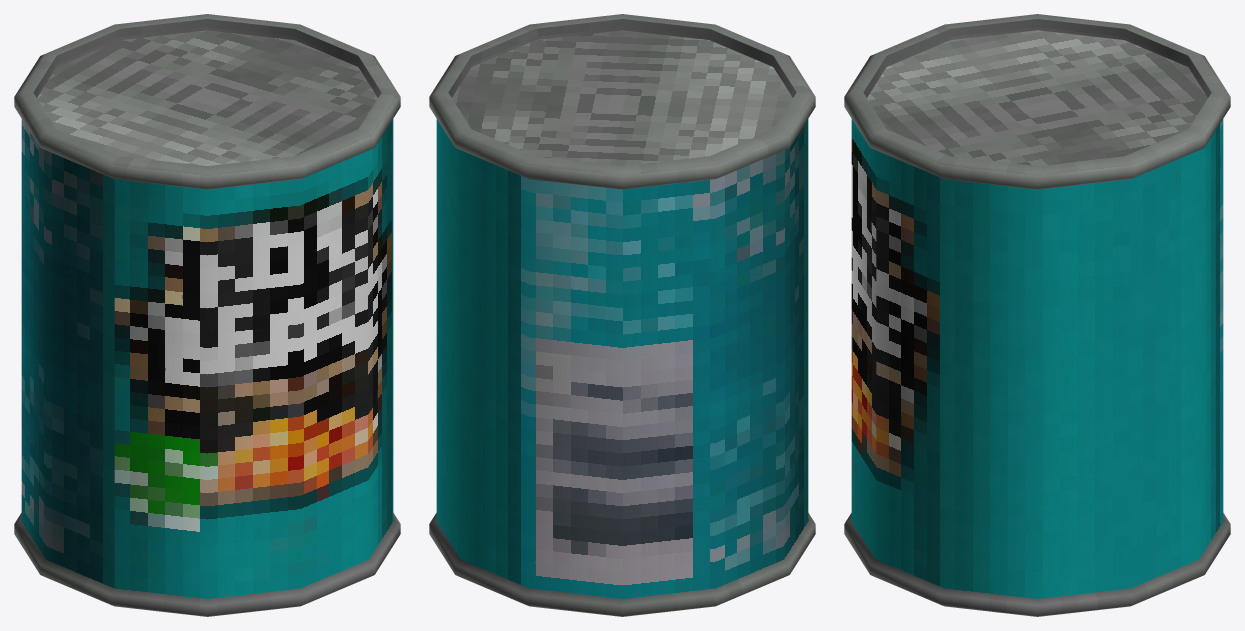
The model's file is can_beans.obj.
3 views of the same model, side by side, from view 1: azimuth 30°, elevation 25°; view 2: azimuth 150°, elevation 25°; view 3: azimuth 270°, elevation 25° (orthographic).
Parts seen in each view (by area): view 1: can_beans; view 2: can_beans; view 3: can_beans.
Boxes of the visible parts, left/top/right/bottom form: can_beans: left=14, top=14, right=400, bottom=616; can_beans: left=429, top=14, right=815, bottom=616; can_beans: left=844, top=14, right=1230, bottom=616.
Size of the model in its own units: 0.3151 by 0.4014 by 0.3151.
